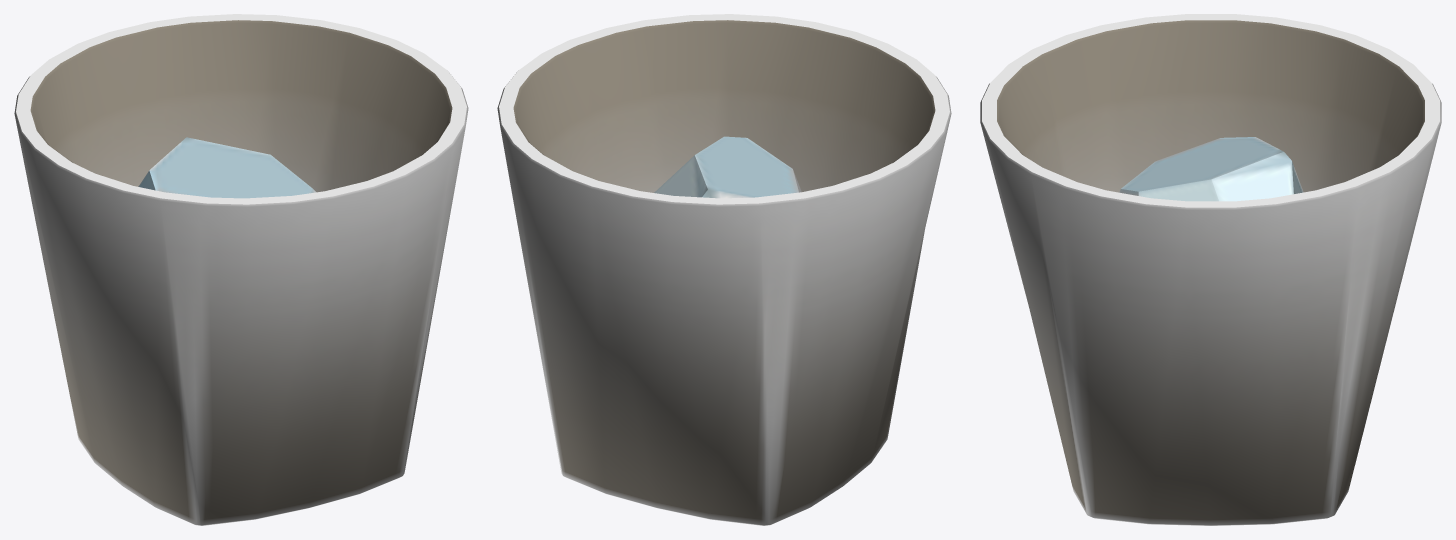
File: Weapon_FuTeJia_fbx.FBX
The picture shows the model from 3 angles, left to right: view 1: azimuth 30°, elevation 25°; view 2: azimuth 150°, elevation 25°; view 3: azimuth 270°, elevation 25°; orthographic projection. The views are drawn at different scales.
Parts seen in each view (by area): view 1: b, a; view 2: b, a; view 3: b, a.
Part boxes in pixels (<box>): b: <box>14,14,468,525</box>; a: <box>138,137,315,198</box>; b: <box>497,14,951,525</box>; a: <box>654,136,801,198</box>; b: <box>980,14,1441,525</box>; a: <box>1119,137,1303,201</box>.
Bounding box in the file's own units: 0.0844 × 0.0722 × 0.0844.
